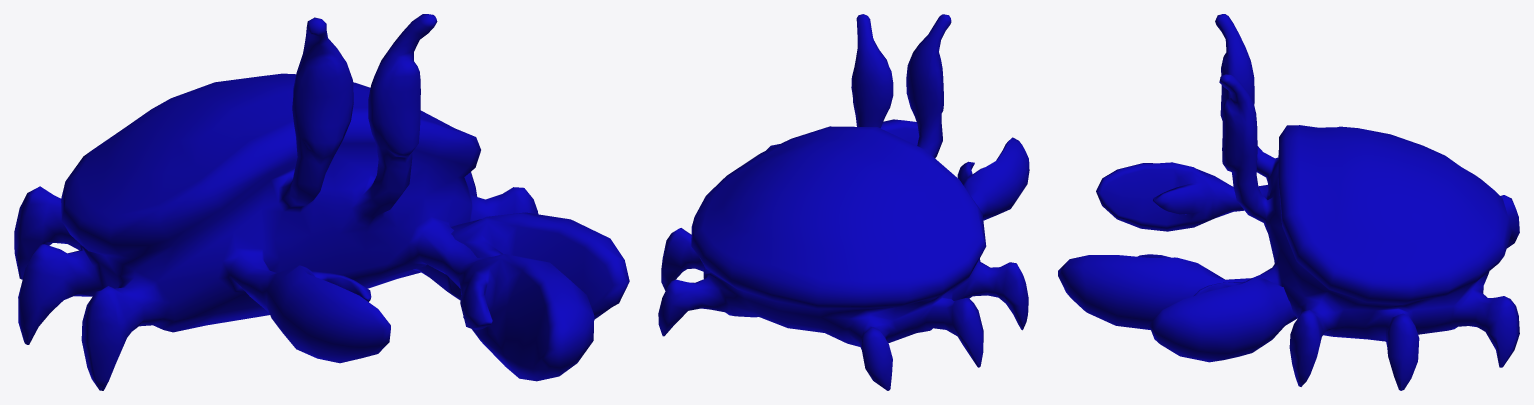
File: Geo_NPC_Crab.fbx
The picture shows the model from 3 angles, left to right: view 1: azimuth 30°, elevation 25°; view 2: azimuth 150°, elevation 25°; view 3: azimuth 270°, elevation 25°; orthographic projection. The views are drawn at different scales.
Visible parts, largest first — view 1: Geo_NPC_Crab; view 2: Geo_NPC_Crab; view 3: Geo_NPC_Crab.
Part boxes in pixels (left/top/right/bottom): Geo_NPC_Crab: left=14, top=14, right=629, bottom=390; Geo_NPC_Crab: left=658, top=14, right=1029, bottom=390; Geo_NPC_Crab: left=1058, top=14, right=1519, bottom=390.
Size of the model in its own units: 45.26 by 35.36 by 53.41.
